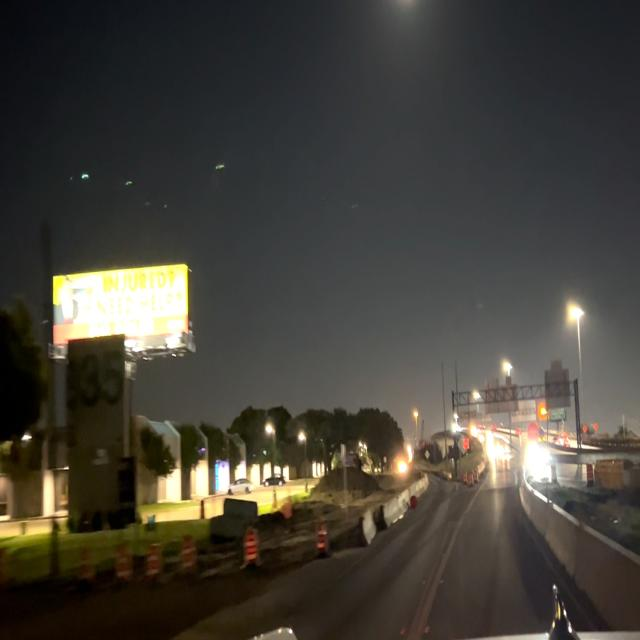back-of-sign: (543, 354, 573, 417), (481, 372, 521, 419)
